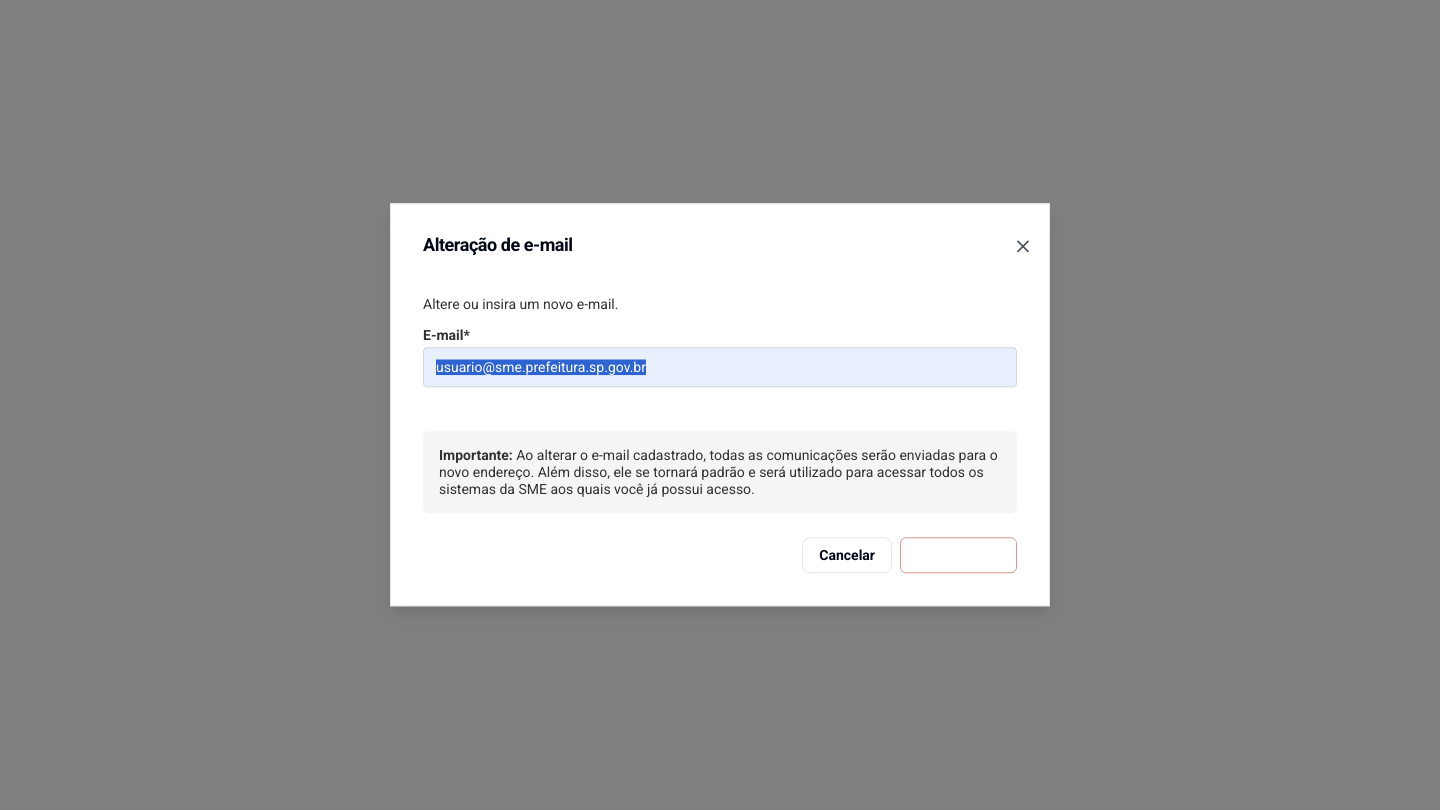
Scenario: ModalAlterarEmail › exibe ícone de check após sucesso
This screenshot has width=1440, height=810.
Replace the text in the field with test id "input-email" with "novo@sme.prefeitura.sp.gov.br": (720,367) top-left (423, 347), bottom-right (1017, 387)
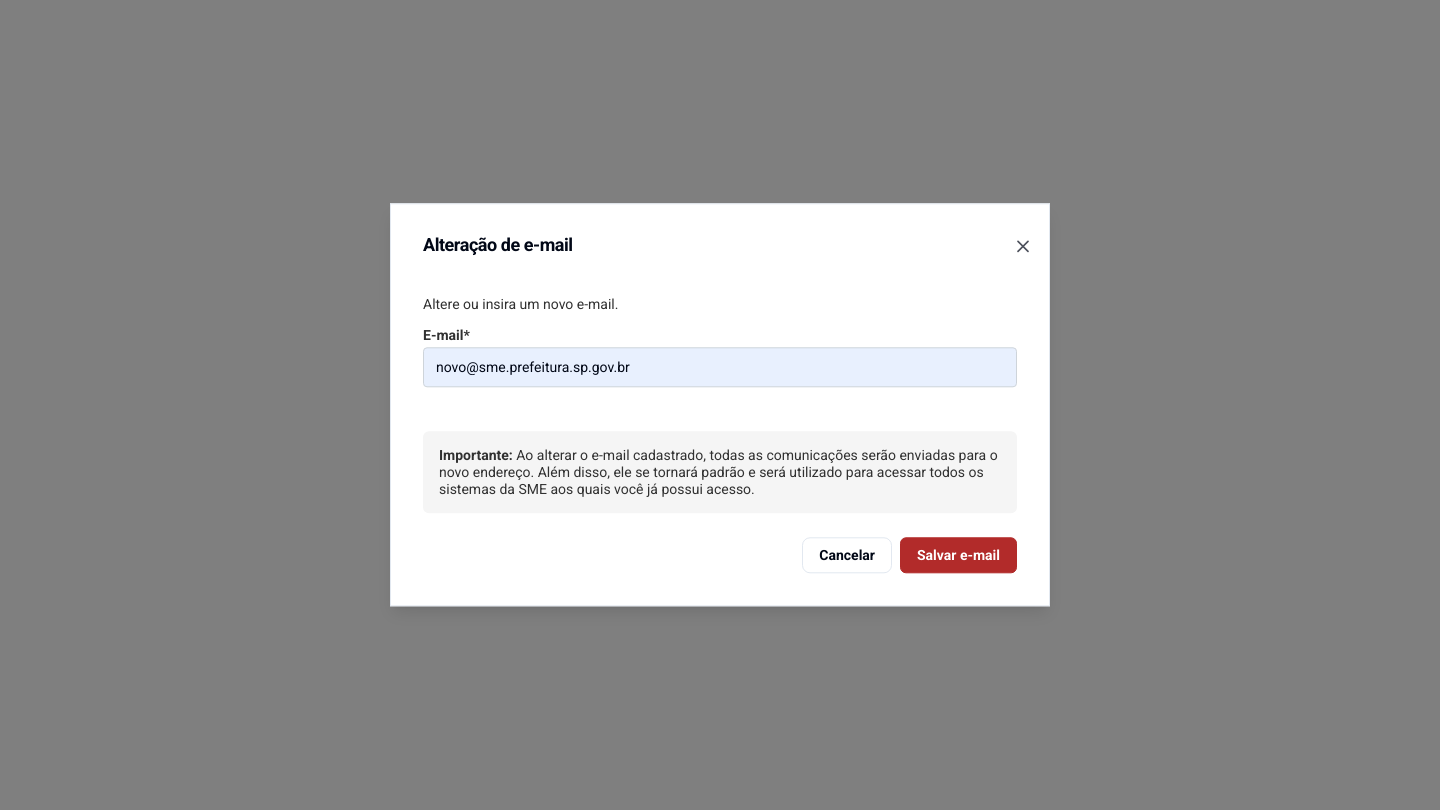
Click the button "Salvar e-mail": (958,556) top-left (900, 538), bottom-right (1017, 574)
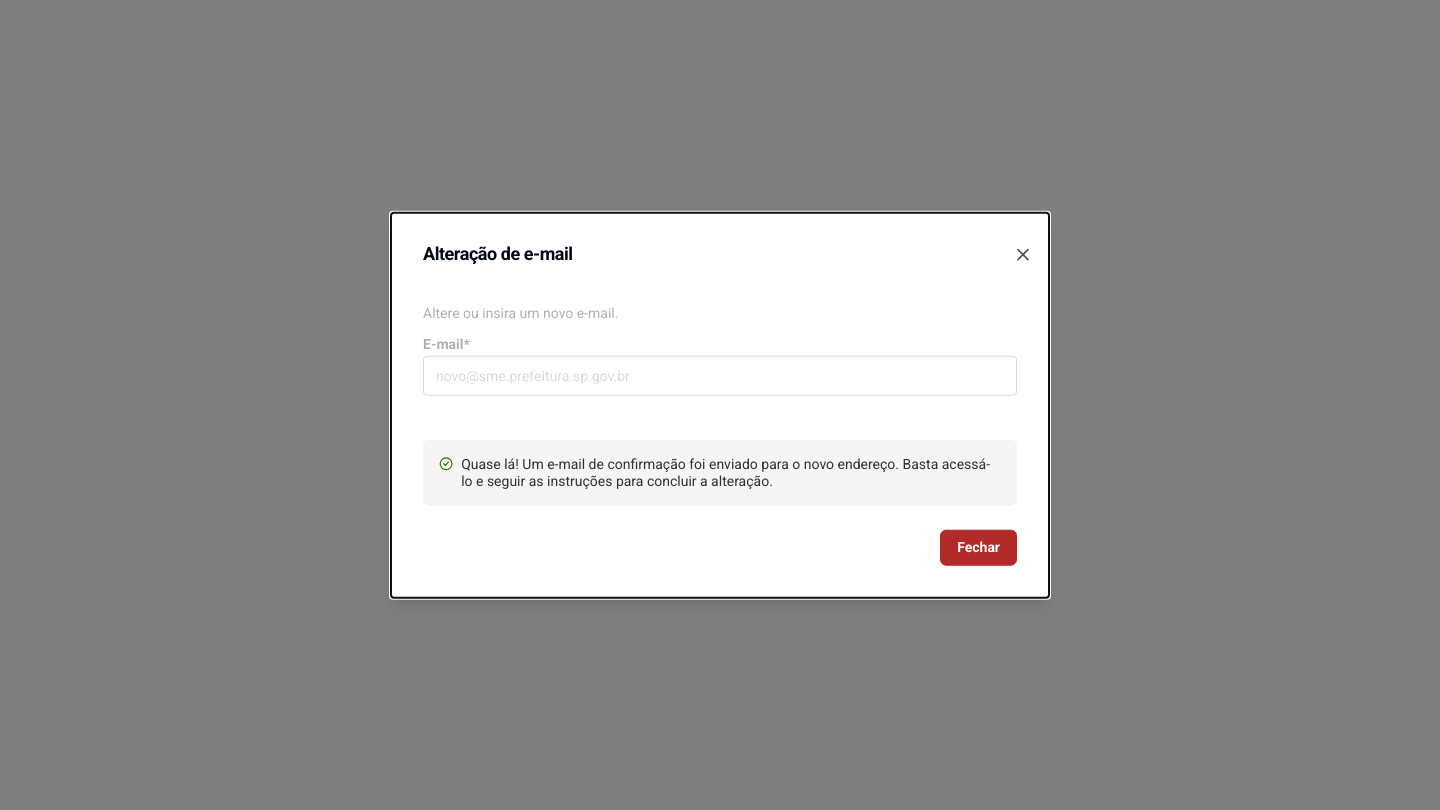
Result: the text "Quase lá! Um e-mail de confirmação foi enviado" is shown at top-left (461, 456), bottom-right (990, 488)
